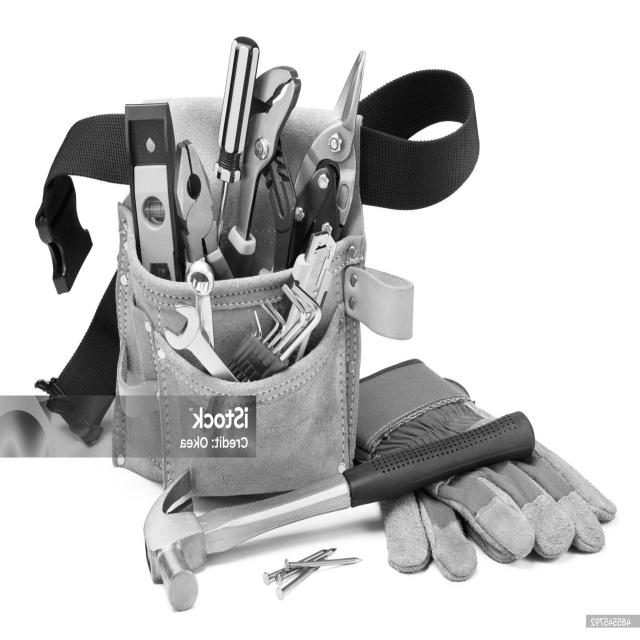golves: (348, 354, 621, 575)
hammer: (135, 392, 540, 621)
level: (123, 99, 180, 279)
nail: (251, 530, 380, 622)
pliers: (285, 37, 365, 274), (172, 135, 232, 278)
screwdriver: (211, 33, 259, 232)
utility_knife: (272, 227, 338, 359)
wrench: (222, 51, 302, 271), (227, 278, 326, 382), (162, 302, 243, 382), (187, 269, 216, 352)
